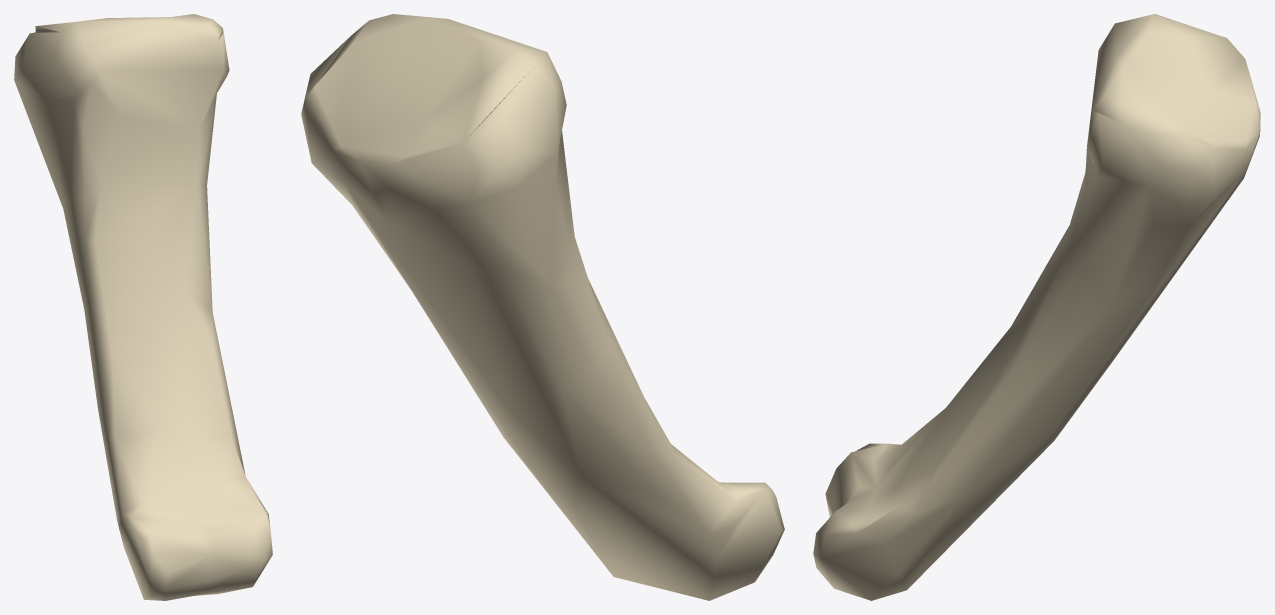
Rendered from esqueleto-proximal-phalanx-of-third-finger-of-hand-r.glb.
The picture shows the model from 3 angles, left to right: view 1: azimuth 30°, elevation 25°; view 2: azimuth 150°, elevation 25°; view 3: azimuth 270°, elevation 25°; orthographic projection. The views are drawn at different scales.
Parts seen in each view (by area): view 1: Proximal phalanx of third finger of hand.r; view 2: Proximal phalanx of third finger of hand.r; view 3: Proximal phalanx of third finger of hand.r.
Part boxes in pixels (left/top/right/bottom): Proximal phalanx of third finger of hand.r: left=14, top=14, right=272, bottom=600; Proximal phalanx of third finger of hand.r: left=301, top=14, right=784, bottom=600; Proximal phalanx of third finger of hand.r: left=813, top=14, right=1260, bottom=600.
Size of the model in its own units: 0.0189 by 0.0421 by 0.0302.
